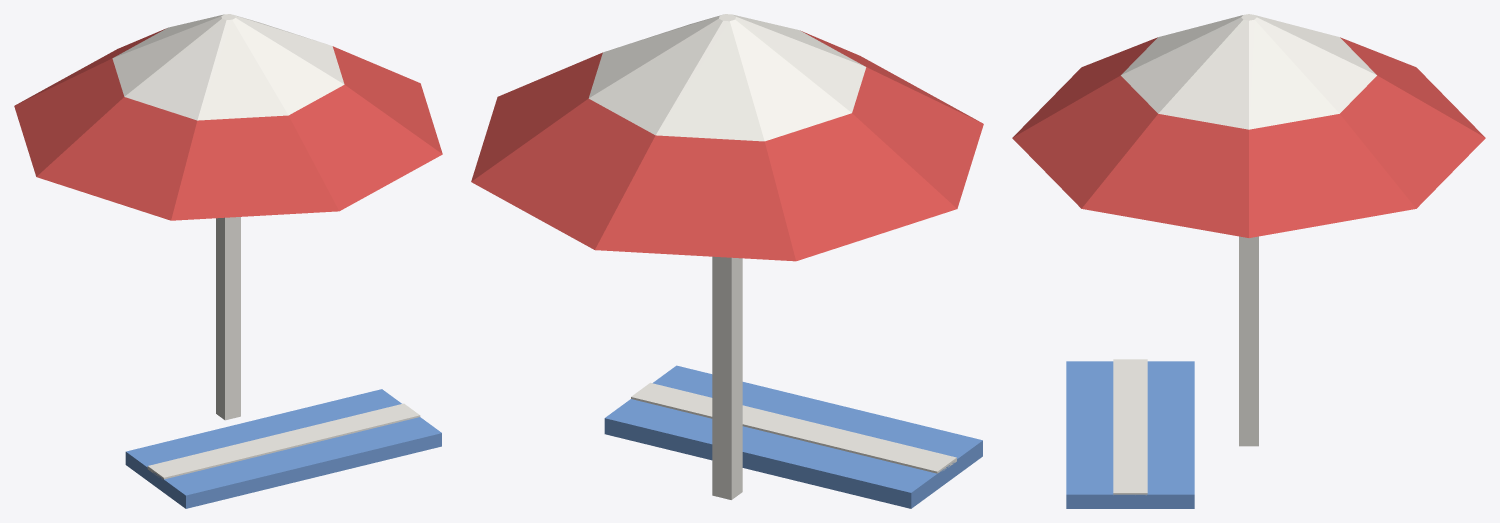
Rendered from deco_parasol.obj.
3 renders of one model, left to right at view 1: azimuth 30°, elevation 25°; view 2: azimuth 150°, elevation 25°; view 3: azimuth 270°, elevation 25°, orthographic. The views are drawn at different scales.
Parts seen in each view (by area): view 1: deco_parasol; view 2: deco_parasol; view 3: deco_parasol.
Part boxes in pixels (x1,y1,x2,y2): deco_parasol: [14, 14, 442, 508]; deco_parasol: [471, 14, 983, 508]; deco_parasol: [1012, 14, 1485, 508].
Bounding box in the file's own units: 0.048 × 0.0475 × 0.048.
1 material, 1 textured.
